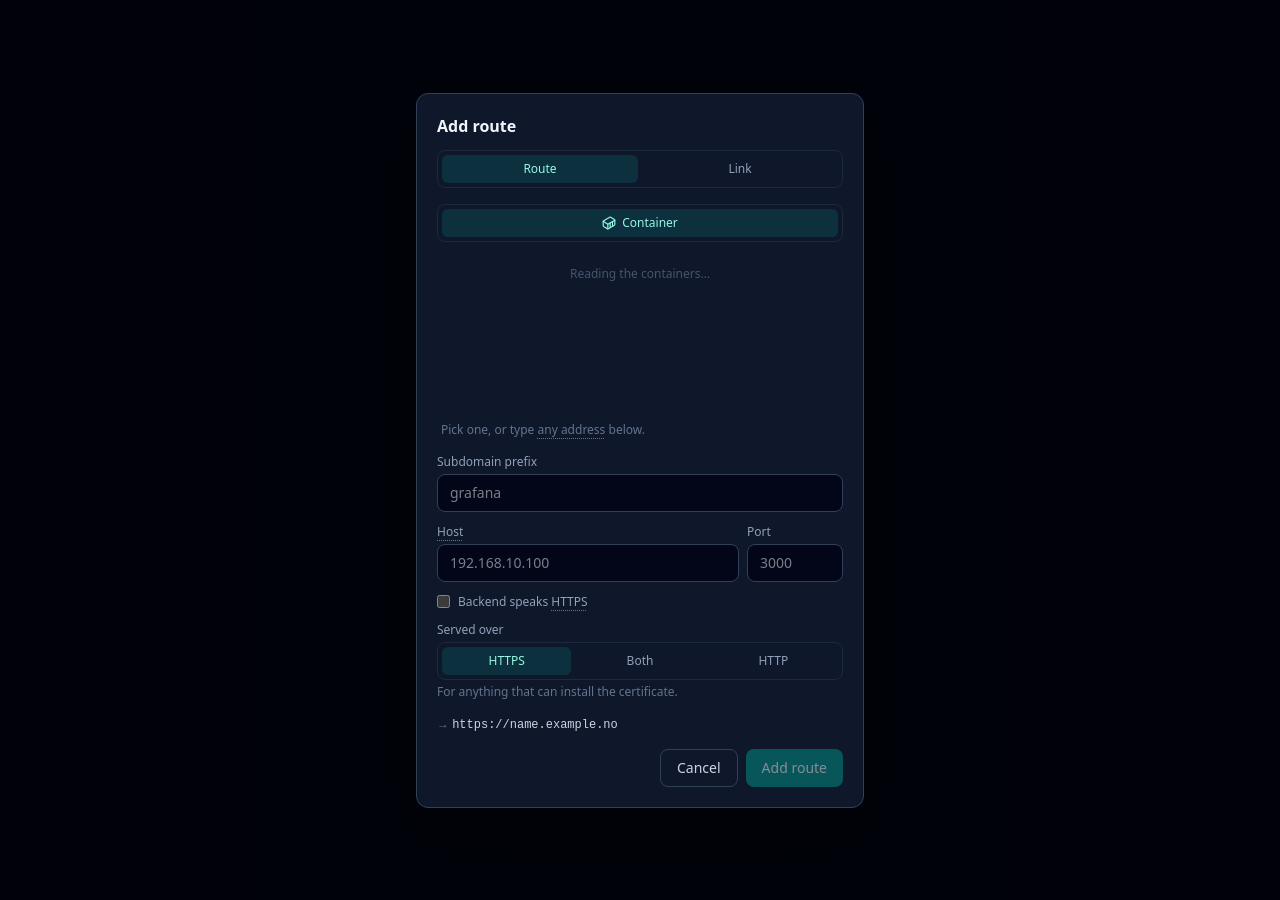
Test: a pasted host:port splits into the two fields
Type "192.168.10.100:3000" into the dropdown named "Host" at [588, 562], box [437,544,739,582]
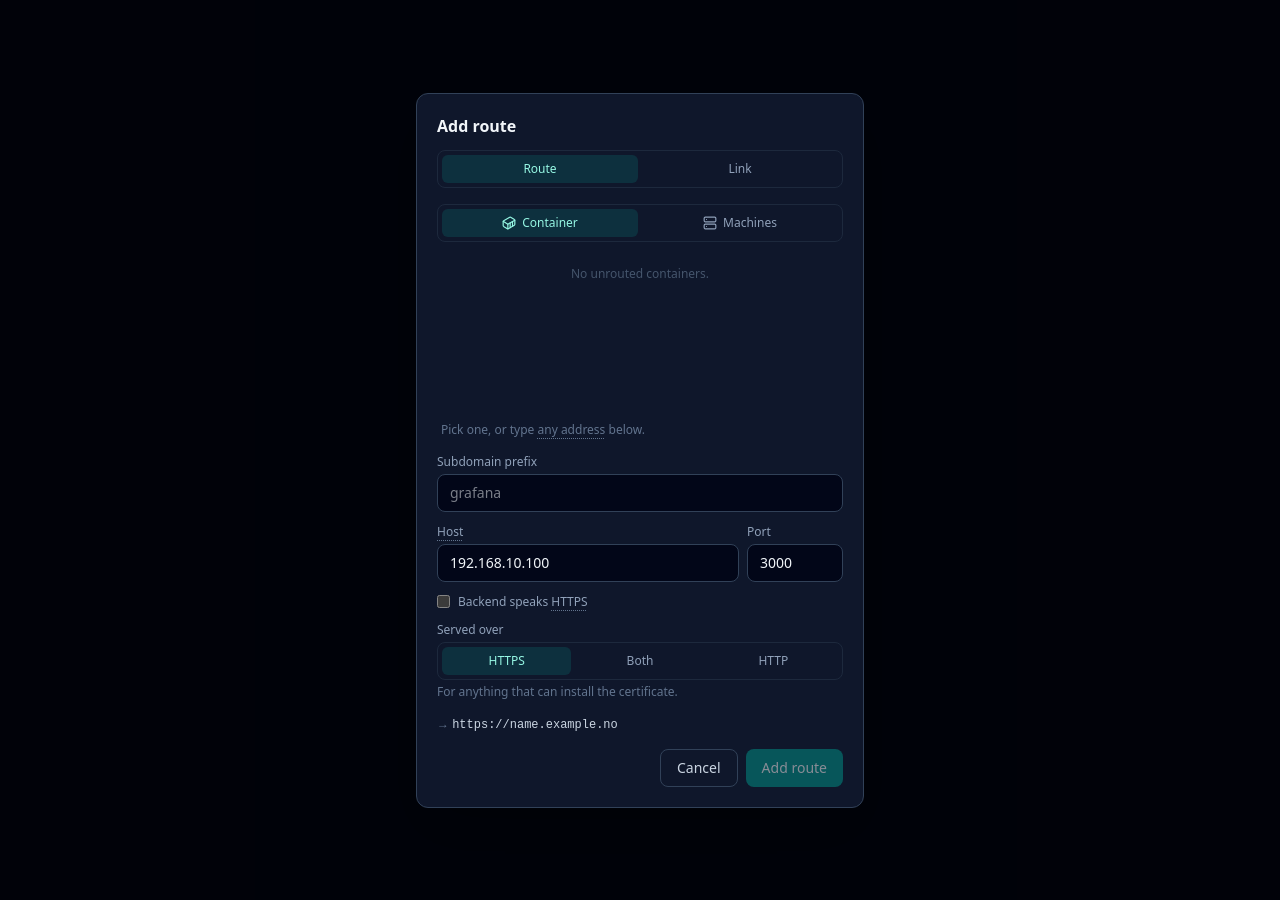
Result: the dropdown named "Host" holds "192.168.10.100" at [437,544,739,582]
Result: the field labelled "Port" holds "3000" at [747,544,843,582]
